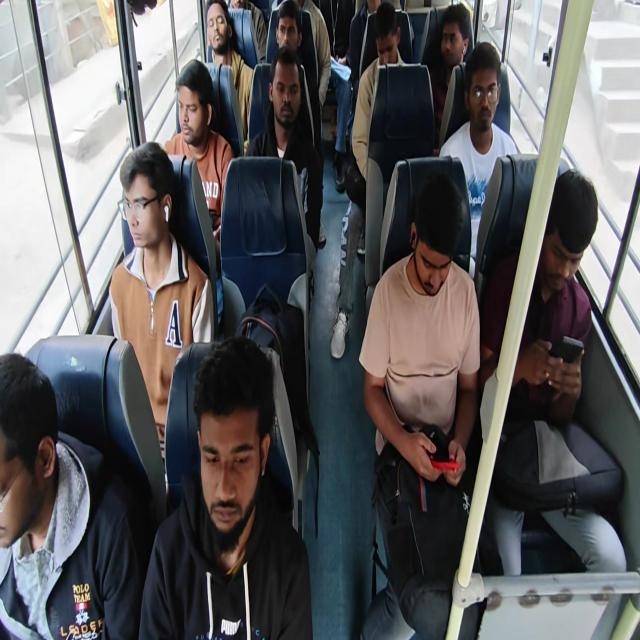person: (478, 167, 627, 578), (358, 171, 485, 638), (138, 335, 313, 639), (0, 351, 141, 639), (108, 141, 215, 479), (330, 1, 408, 359), (438, 40, 519, 276), (244, 44, 324, 252), (162, 58, 235, 263), (351, 1, 407, 181), (317, 0, 355, 191), (205, 0, 254, 142), (269, 0, 316, 146), (429, 4, 472, 150), (347, 0, 382, 147), (227, 0, 269, 63)
